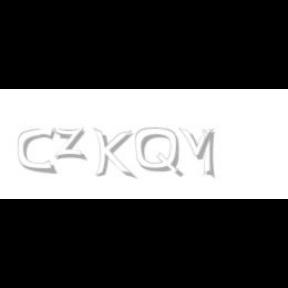C: (18, 128, 55, 174)
I: (202, 128, 216, 180)
K: (93, 128, 133, 180)
Q: (135, 128, 181, 178)
v: (178, 128, 218, 160)
z: (53, 128, 89, 160)
